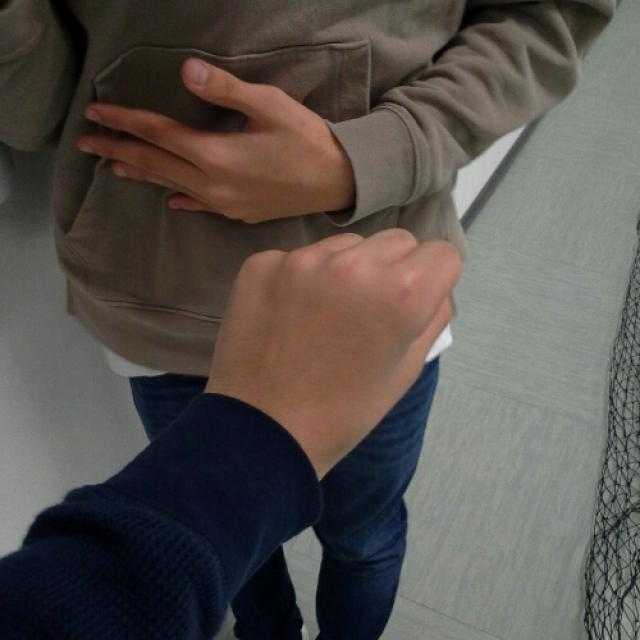rock: (221, 226, 461, 439)
